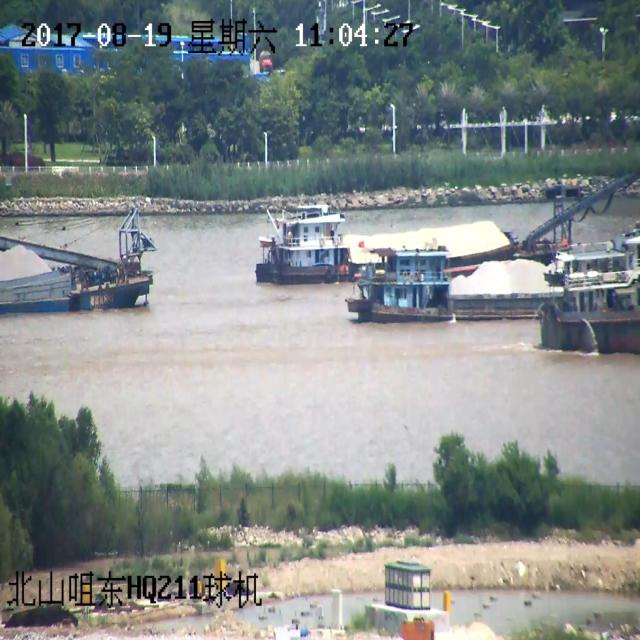cargoship: (266, 169, 554, 264), (341, 246, 534, 342), (0, 205, 162, 319), (542, 233, 640, 355)
